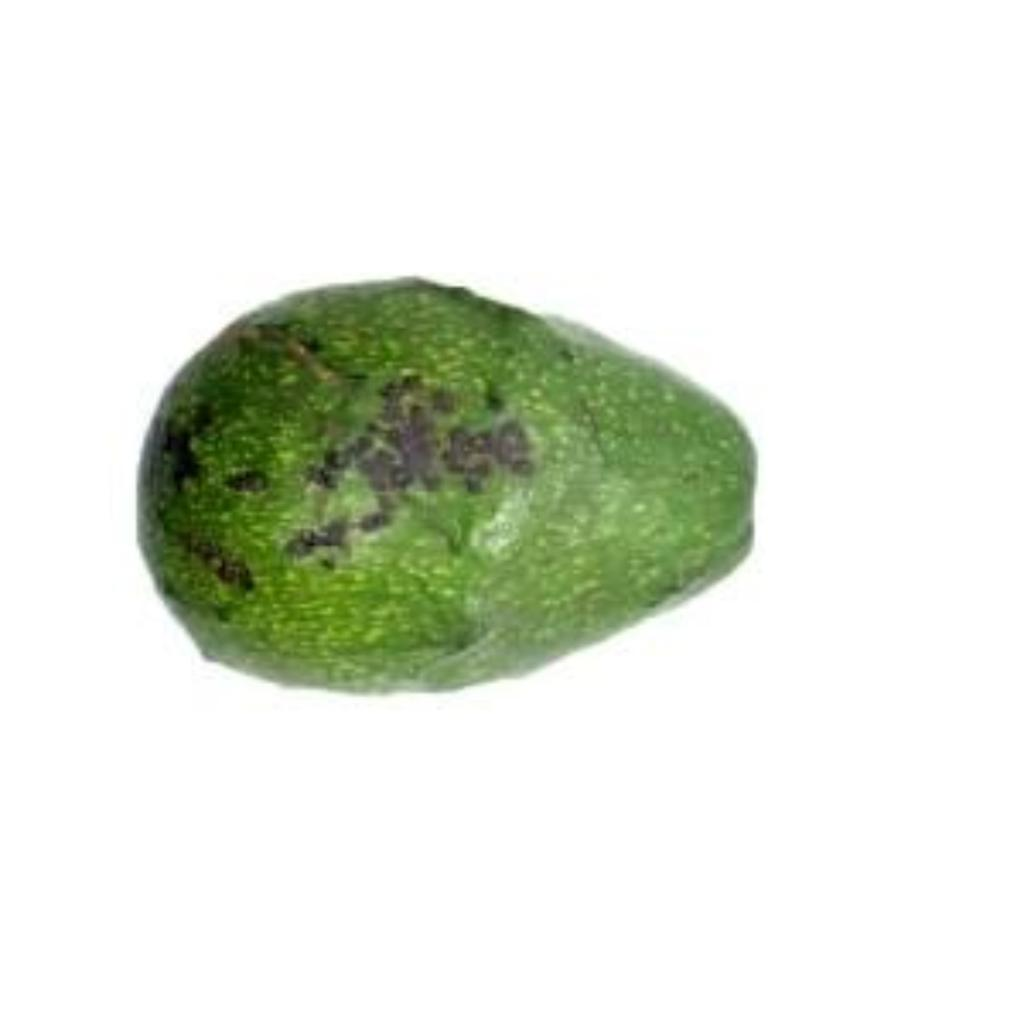cercospora_spot: (108, 251, 796, 705)
